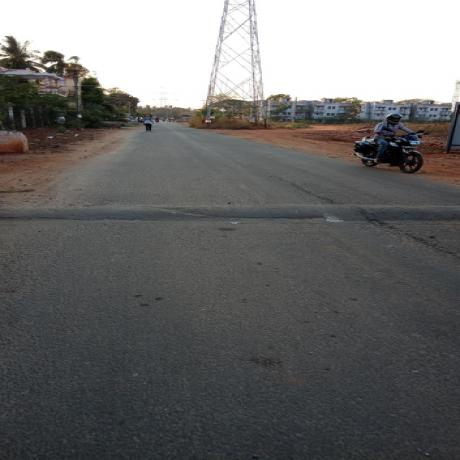Speed Bump: (1, 205, 459, 223)
